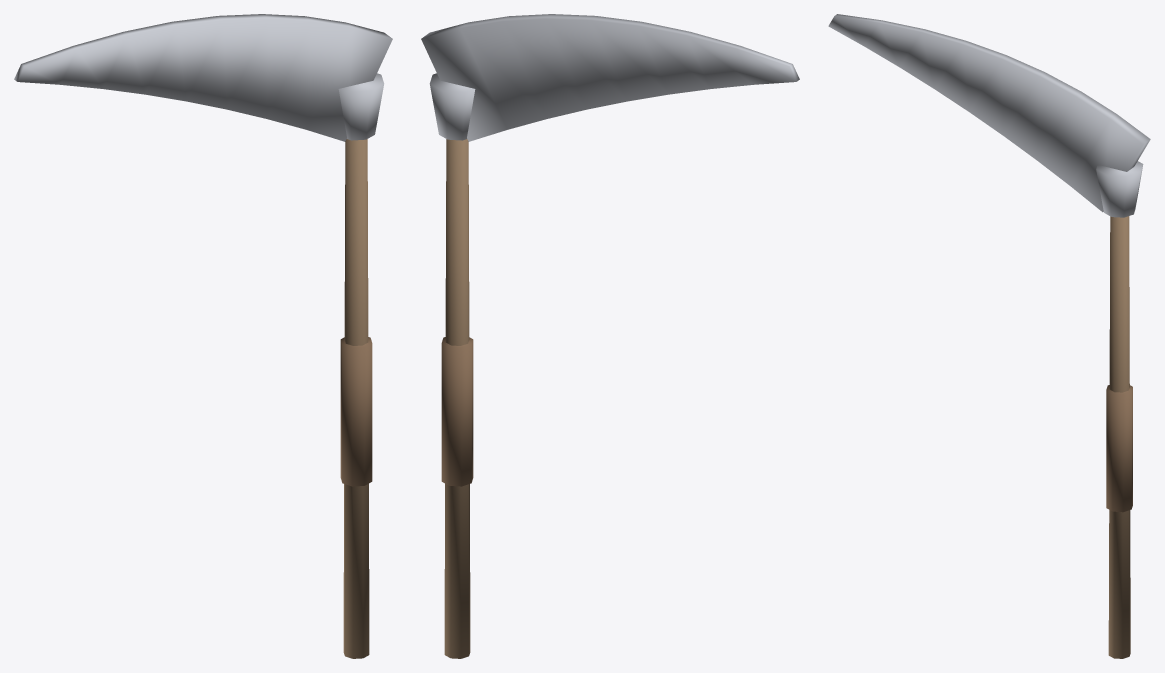
File: w_hook_scythe.glb
The picture shows the model from 3 angles, left to right: view 1: azimuth 30°, elevation 25°; view 2: azimuth 150°, elevation 25°; view 3: azimuth 330°, elevation 25°; orthographic projection. The views are drawn at different scales.
Parts seen in each view (by area): view 1: w_hook_scythe; view 2: w_hook_scythe; view 3: w_hook_scythe.
Part boxes in pixels (x1,y1,x2,y2): w_hook_scythe: [14, 14, 392, 658]; w_hook_scythe: [421, 14, 799, 658]; w_hook_scythe: [828, 14, 1150, 658].
Size of the model in its own units: 0.4496 by 0.7791 by 0.06.
